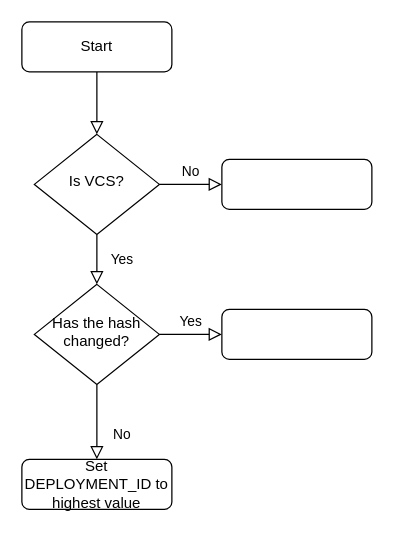
Some shapes in this 394 by 533 pixel diagram are drawn without their labels. The shapes that lost their labels are listed below. From the top down, each one's centre as x and y in pixels, then its label:
pixel 296 183: Plug in lamp
pixel 296 333: Create new deployment
